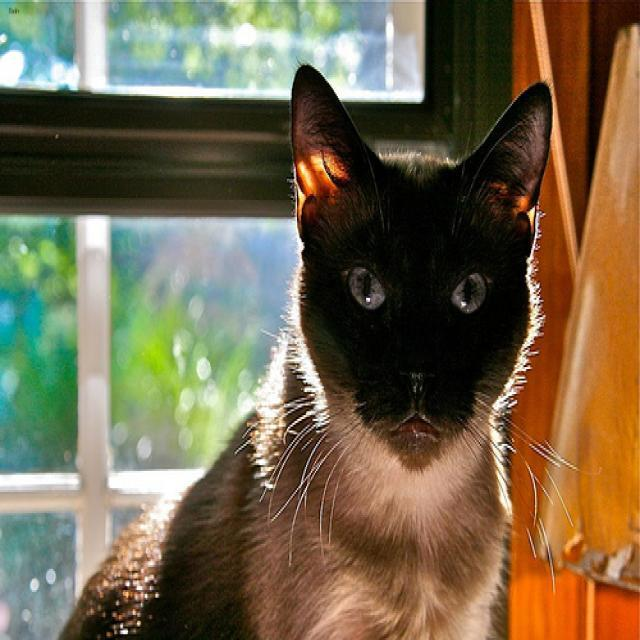Siamese: (290, 61, 551, 469)
